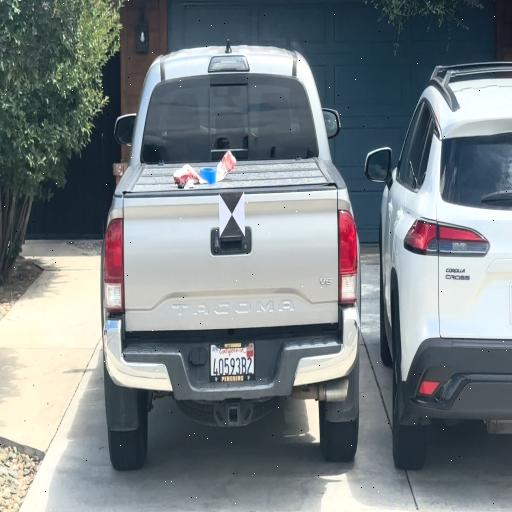target: (219, 193, 245, 236)
